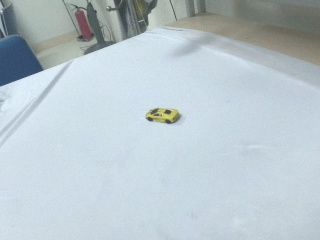toy_car: (146, 108, 181, 123)
